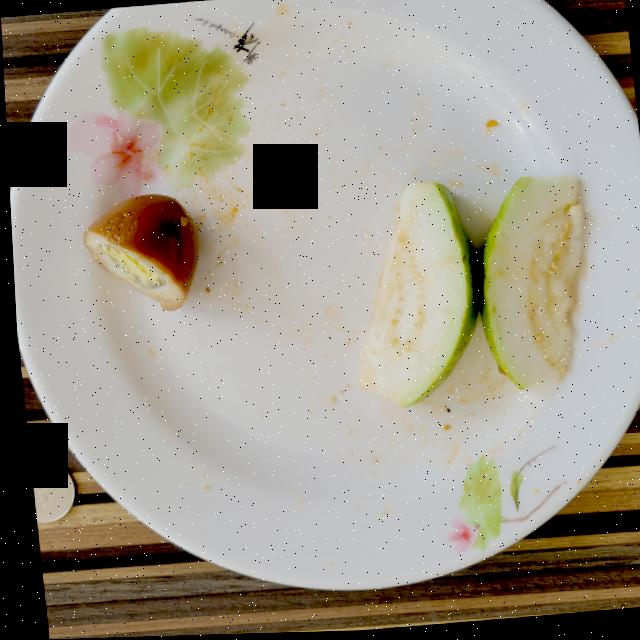coin: (26, 459, 70, 522)
guava -sliced-: (355, 178, 581, 409)
soy egg: (81, 194, 195, 311)
